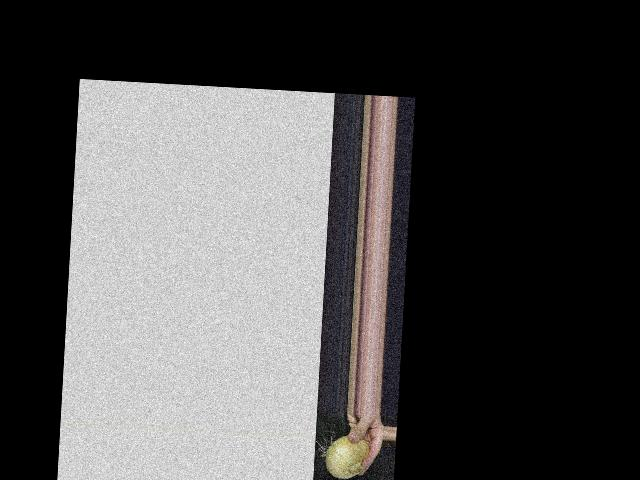onion: (323, 435, 370, 479)
